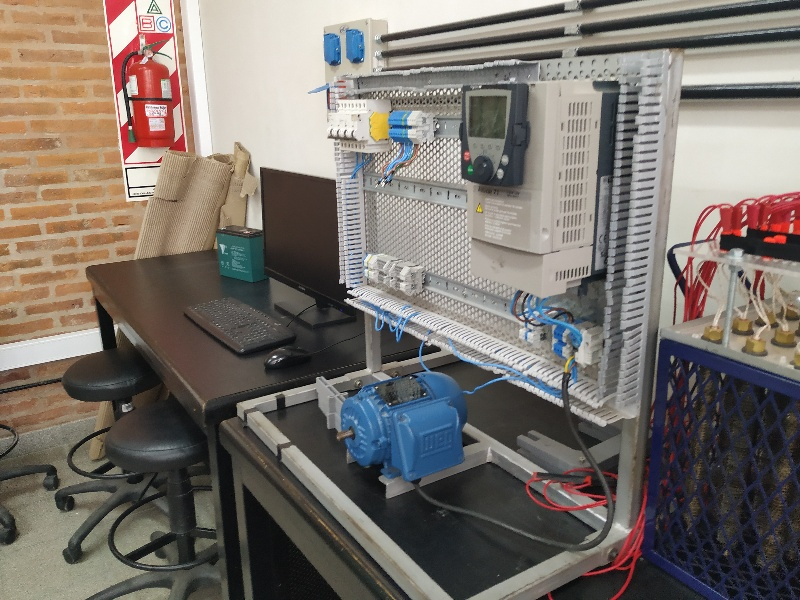Tablero 0: (327, 87, 641, 405)
